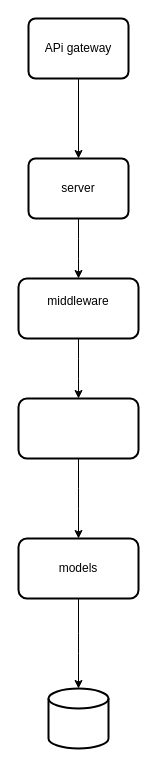
Image size: 156x766. Some labels were removed from this diagram. The shapes that lost their labels are listed below. From the top down, each one's centre as x and y in pixels, then its label:
At point (78, 428): "routes".
At point (78, 718): "Database".
